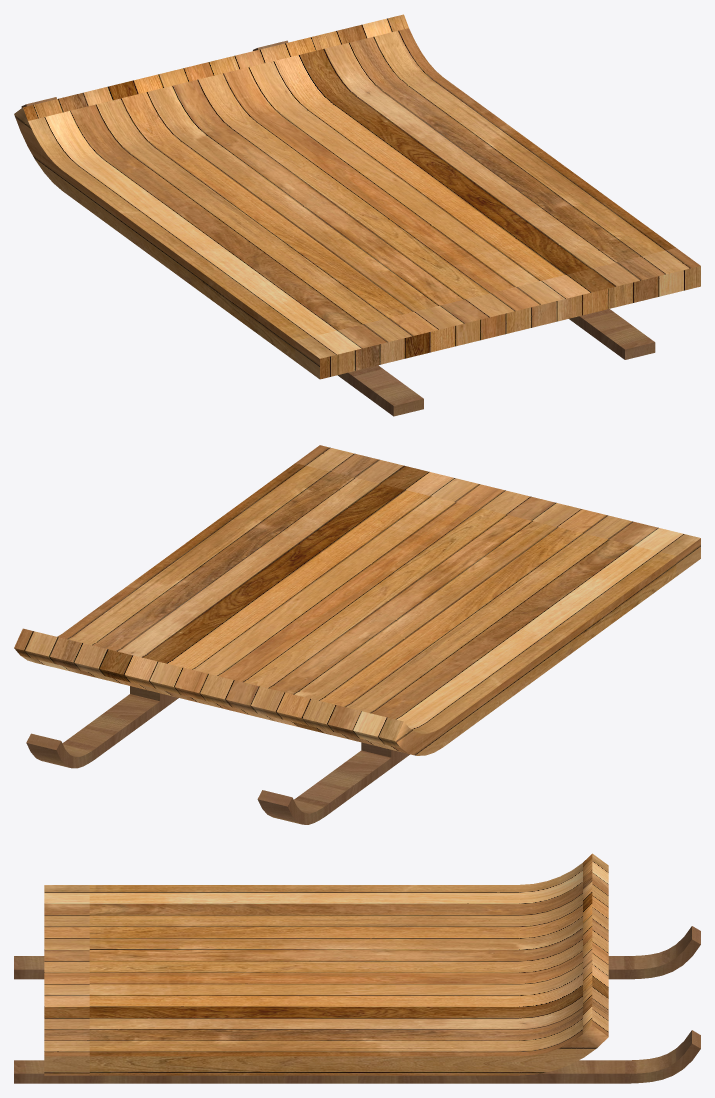
The model's file is Sleigh - Status Ready.FBX.
3 views of the same model, one above another, from view 1: azimuth 30°, elevation 25°; view 2: azimuth 150°, elevation 25°; view 3: azimuth 270°, elevation 25° (orthographic). The views are drawn at different scales.
Parts seen in each view (by area): view 1: Box001; view 2: Box001; view 3: Box001.
Part boxes in pixels (<box>): Box001: <box>14,14,700,416</box>; Box001: <box>14,445,700,824</box>; Box001: <box>14,853,700,1083</box>.
Size of the model in its own units: 75.81 by 17.81 by 128.
2 materials, 2 textured.
